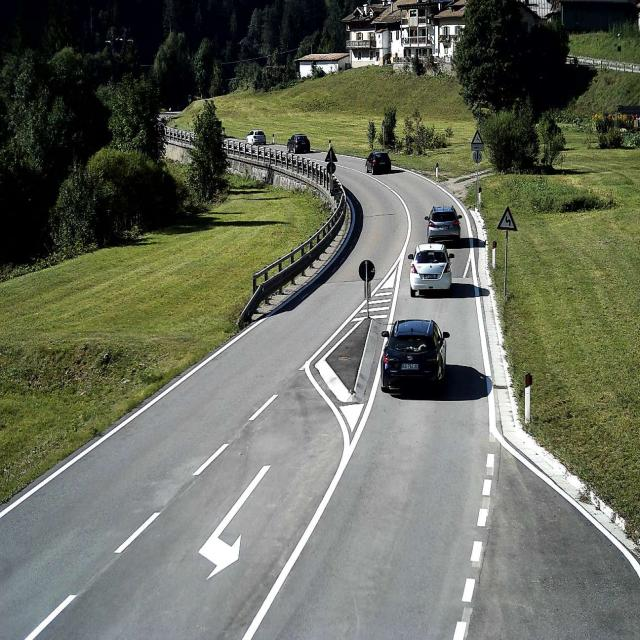car: (380, 318, 450, 392), (408, 242, 452, 296), (424, 204, 462, 243), (365, 151, 391, 174), (287, 133, 310, 153), (246, 129, 266, 147)
